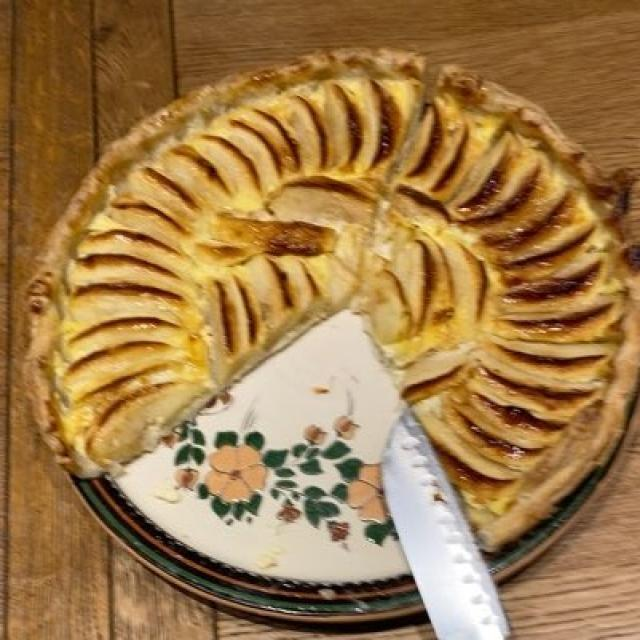apple-pie: (52, 58, 622, 510)
